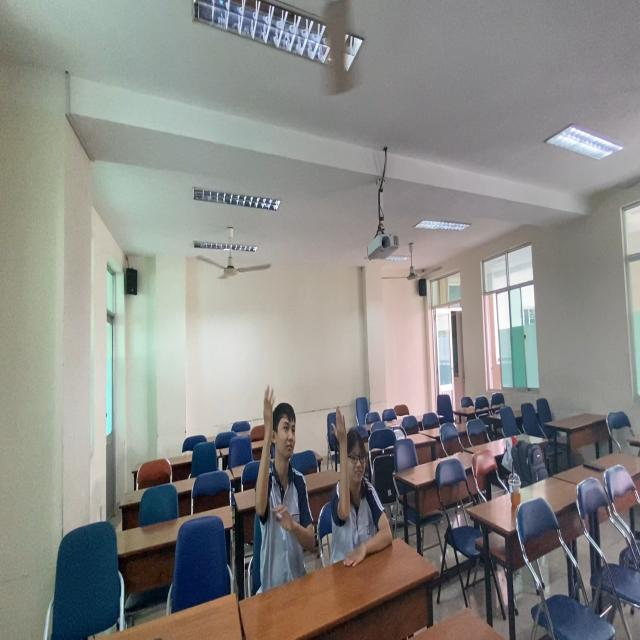raise_hand: (239, 378, 324, 602), (325, 395, 409, 583)
